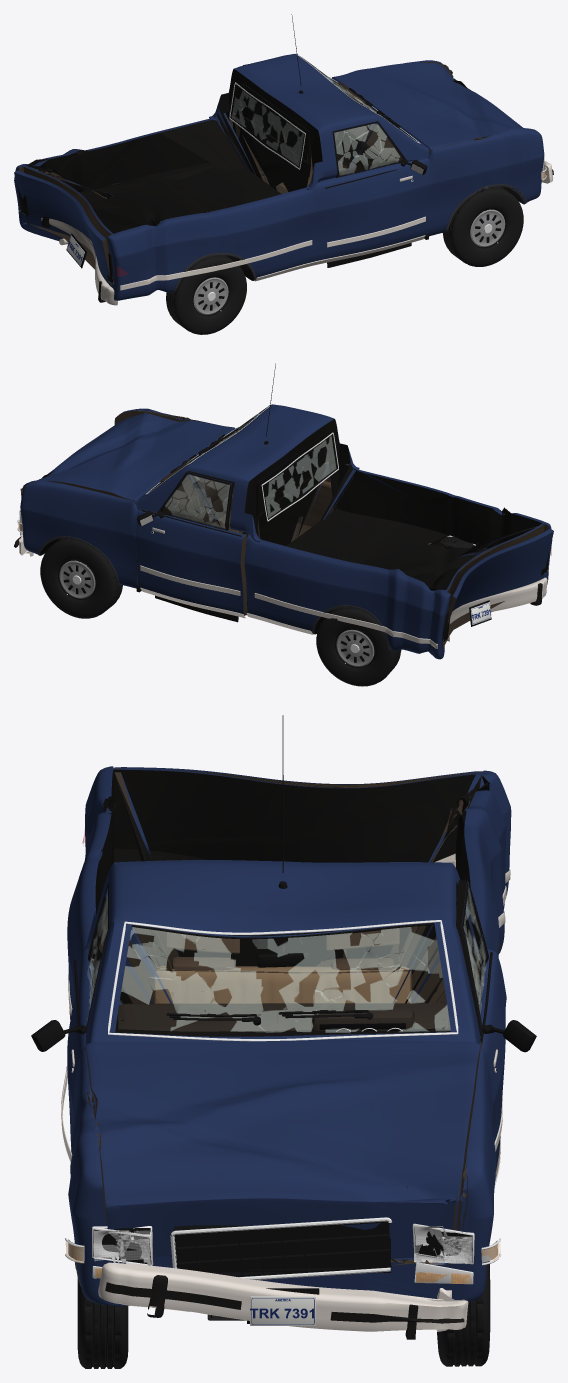
Rendered from pickup87_rear_d1.glb.
3 renders of one model, top to bottom at view 1: azimuth 30°, elevation 25°; view 2: azimuth 150°, elevation 25°; view 3: azimuth 270°, elevation 25°, orthographic. The views are drawn at different scales.
Parts seen in each view (by area): view 1: Body, Hood, Wheel_FR_mesh, Wheel_RR_mesh, Door_FR, Tailgate, Glass, Interior, Trim, Trim_FR, Glass_FR, Bumper_R (+1 smaller); view 2: Body, Hood, Door_FL, Wheel_FL_mesh, Wheel_RL_mesh, Tailgate, Glass, Interior, Trim, Trim_FL, Glass_FL, Bumper_R (+2 smaller); view 3: Body, Hood, Interior, Glass, Ends, Bumper_F, Door_FL, Wheel_FR_mesh, Wheel_FL_mesh, Lamps_Head, Trim, Trim_FL (+4 smaller).
Boxes of the visible parts, x1,y1,x2,y2 form: Body: (14, 54, 544, 300); Hood: (332, 63, 522, 153); Wheel_FR_mesh: (443, 186, 523, 266); Wheel_RR_mesh: (166, 255, 246, 334); Door_FR: (318, 125, 427, 259); Tailgate: (14, 170, 111, 287); Glass: (229, 55, 420, 169); Interior: (279, 82, 401, 189); Trim: (120, 14, 526, 293); Trim_FR: (319, 121, 427, 267); Glass_FR: (334, 124, 403, 177); Bumper_R: (41, 216, 117, 305); Body: (20, 404, 552, 659); Hood: (37, 413, 235, 504); Door_FL: (136, 471, 247, 615); Wheel_FL_mesh: (40, 538, 122, 618); Wheel_RL_mesh: (316, 607, 401, 686); Tailgate: (442, 528, 553, 647); Glass: (145, 406, 338, 521); Interior: (160, 463, 239, 532); Trim: (38, 363, 486, 651); Trim_FL: (137, 472, 245, 622); Glass_FL: (161, 472, 232, 530); Bumper_R: (449, 577, 547, 624); Body: (67, 766, 511, 1305); Hood: (85, 1040, 480, 1265); Interior: (116, 928, 450, 1031); Glass: (108, 920, 458, 1041); Ends: (65, 1217, 501, 1325); Bumper_F: (98, 1262, 468, 1339); Door_FL: (456, 880, 506, 1170); Wheel_FR_mesh: (77, 1279, 128, 1368); Wheel_FL_mesh: (437, 1261, 490, 1366); Lamps_Head: (93, 1230, 471, 1264); Trim: (68, 715, 510, 1287); Trim_FL: (462, 881, 536, 1186).
Size of the model in its own units: 4.83 by 2.57 by 2.34.
34 materials, 5 textured.
